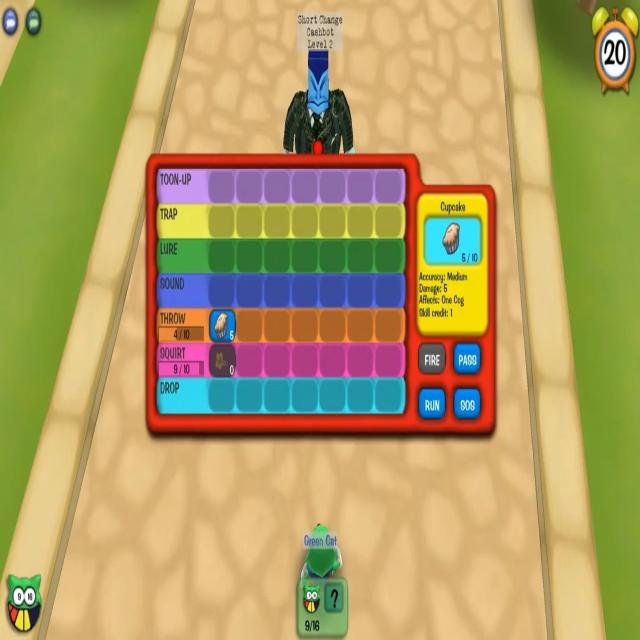shortchange: (283, 11, 360, 155)
